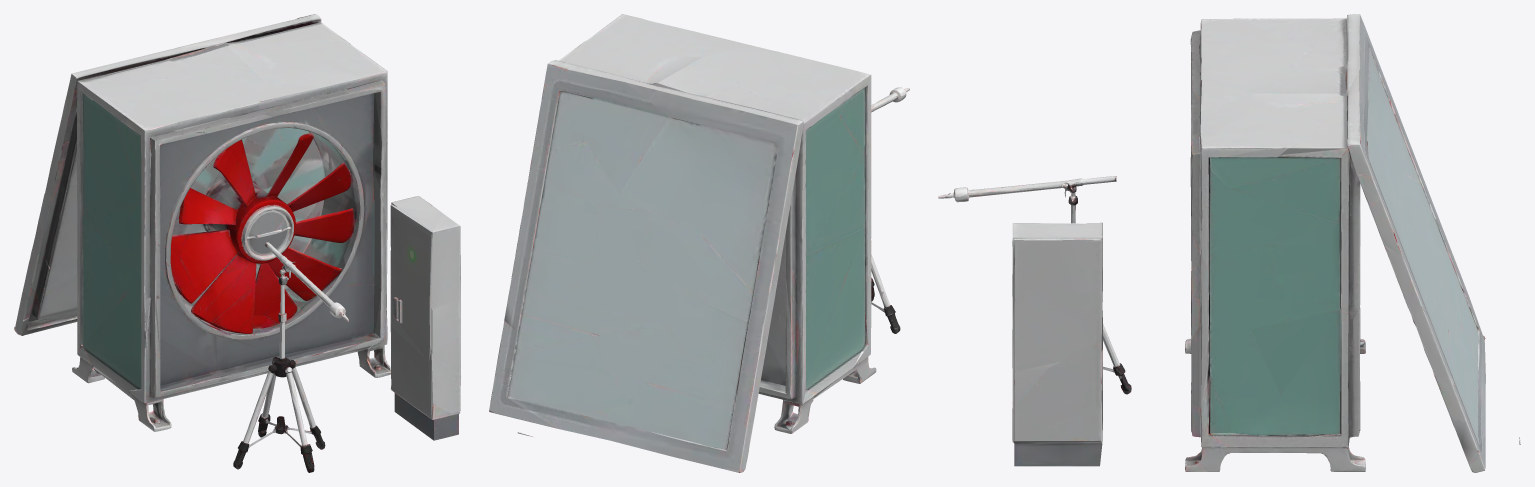
The model's file is commission.glb.
3 renders of one model, left to right at view 1: azimuth 30°, elevation 25°; view 2: azimuth 150°, elevation 25°; view 3: azimuth 270°, elevation 25°, orthographic. The views are drawn at different scales.
Bounding box in the file's own units: 1.01 × 1.21 × 1.9.
1 material, 1 textured.
